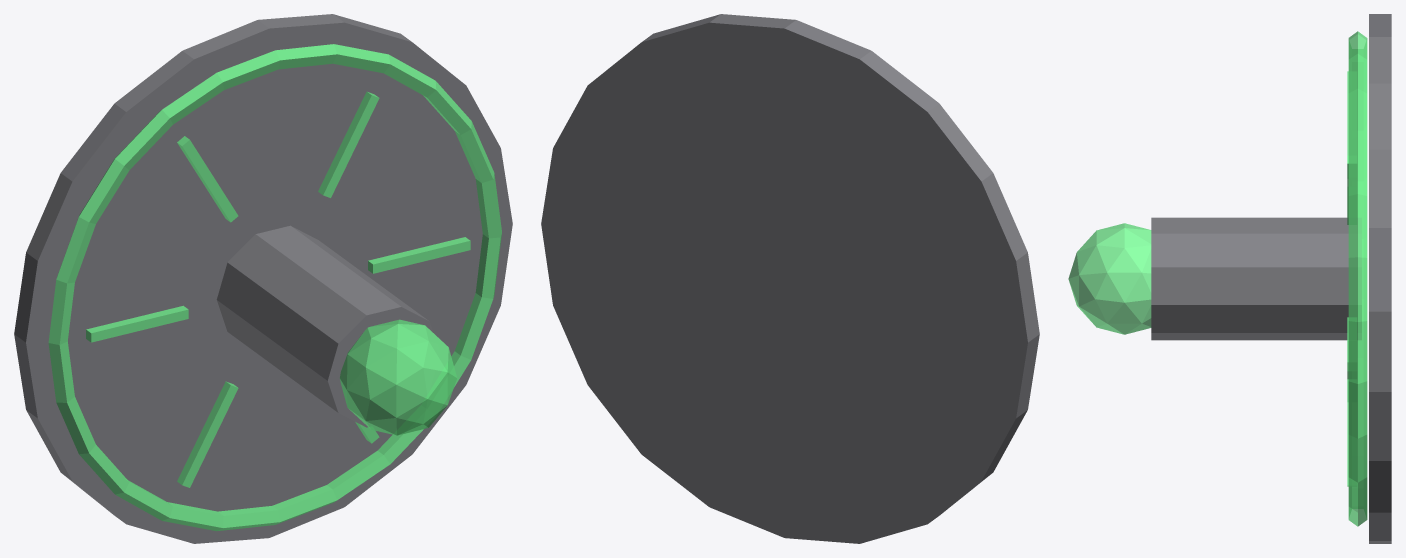
File: arena_reset_beacon.glb
The picture shows the model from 3 angles, left to right: view 1: azimuth 30°, elevation 25°; view 2: azimuth 150°, elevation 25°; view 3: azimuth 270°, elevation 25°; orthographic projection. The views are drawn at different scales.
Visible parts, largest first — view 1: arena_plate, mechanic_core, warning_ring, activation_orb, floor_rune_4, floor_rune_1, floor_rune_3, floor_rune_0, floor_rune_2; view 2: arena_plate; view 3: mechanic_core, arena_plate, warning_ring, activation_orb.
Part boxes in pixels (bbox=[...]): arena_plate: bbox=[14, 14, 512, 543]; mechanic_core: bbox=[216, 225, 439, 427]; warning_ring: bbox=[48, 44, 501, 531]; activation_orb: bbox=[339, 319, 457, 435]; floor_rune_4: bbox=[177, 381, 238, 487]; floor_rune_1: bbox=[318, 91, 379, 197]; floor_rune_3: bbox=[86, 305, 188, 342]; floor_rune_0: bbox=[368, 237, 470, 273]; floor_rune_2: bbox=[177, 136, 238, 222]; arena_plate: bbox=[541, 14, 1039, 543]; mechanic_core: bbox=[1151, 217, 1361, 340]; arena_plate: bbox=[1369, 14, 1391, 543]; warning_ring: bbox=[1348, 31, 1367, 526]; activation_orb: bbox=[1068, 223, 1151, 334].
Size of the model in its own units: 1.9 by 1.9 by 1.15.
